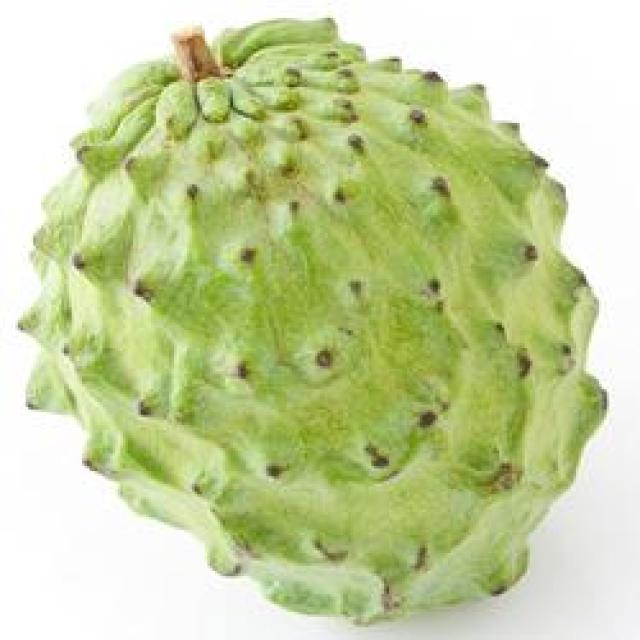apple: (23, 10, 614, 640)
